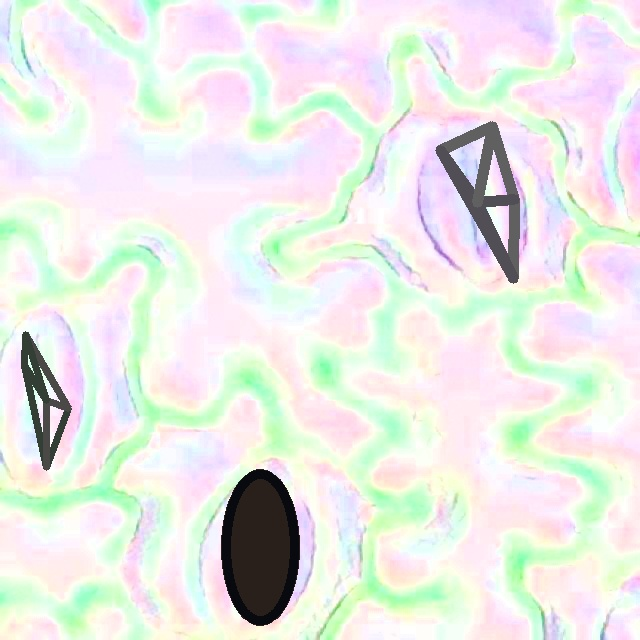open: (435, 122, 519, 282), (221, 468, 299, 625), (21, 331, 71, 470)
